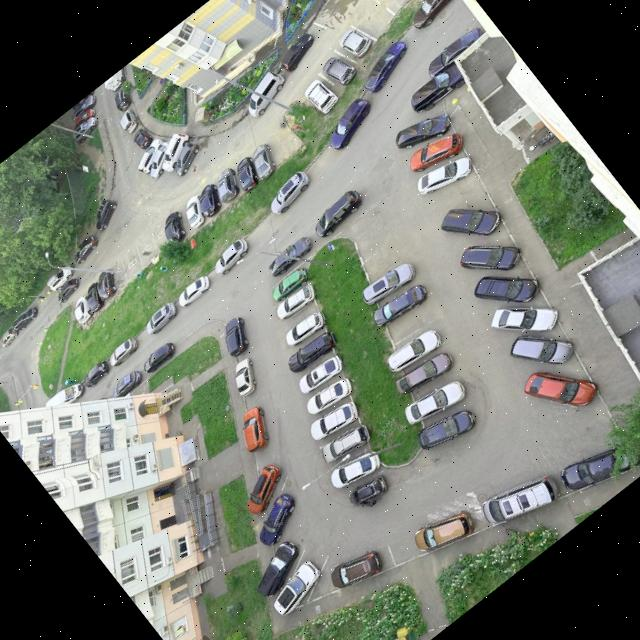car: (483, 472, 560, 526), (561, 445, 640, 491), (428, 25, 483, 78), (523, 370, 599, 407), (409, 64, 466, 113), (413, 508, 475, 553), (406, 379, 466, 425), (273, 560, 321, 617), (395, 352, 456, 395), (386, 329, 444, 373), (373, 283, 428, 327), (419, 409, 478, 450), (257, 541, 300, 596), (329, 96, 372, 151), (329, 548, 387, 588), (363, 264, 417, 306), (287, 330, 338, 374), (364, 41, 406, 93), (315, 191, 361, 238), (417, 156, 472, 195), (410, 132, 464, 171), (309, 401, 359, 443), (397, 111, 452, 148), (328, 450, 379, 488), (322, 423, 369, 464), (259, 493, 295, 546), (247, 463, 283, 516), (299, 353, 345, 394), (507, 335, 574, 363), (440, 208, 502, 238), (268, 235, 311, 278), (472, 276, 540, 302), (306, 378, 353, 415), (270, 171, 309, 215), (248, 71, 285, 117), (490, 308, 560, 331), (285, 310, 328, 347), (460, 246, 523, 271), (280, 33, 316, 74), (276, 285, 318, 320), (348, 474, 389, 508), (242, 407, 270, 454), (304, 78, 339, 115), (215, 238, 248, 276), (272, 267, 308, 301), (143, 340, 176, 375), (413, 0, 451, 29), (145, 301, 177, 335), (338, 29, 373, 60), (162, 134, 189, 174), (178, 274, 210, 307), (322, 56, 356, 87), (226, 315, 251, 357), (251, 142, 277, 182), (45, 382, 83, 408), (234, 358, 257, 399), (109, 338, 140, 368), (138, 138, 163, 174), (112, 369, 143, 398), (238, 155, 260, 194), (174, 143, 199, 176), (216, 168, 238, 205), (149, 141, 169, 179), (95, 198, 118, 231), (46, 265, 74, 292), (70, 94, 98, 121), (83, 361, 109, 388), (11, 306, 38, 332), (97, 268, 117, 302), (74, 236, 99, 263), (165, 210, 186, 242), (200, 185, 220, 217), (74, 116, 97, 143), (74, 296, 95, 324), (186, 195, 203, 229), (58, 277, 79, 304), (72, 108, 96, 130), (87, 283, 104, 313), (119, 109, 140, 133), (103, 70, 125, 92), (132, 128, 153, 149), (115, 87, 131, 112), (1, 328, 19, 347)
